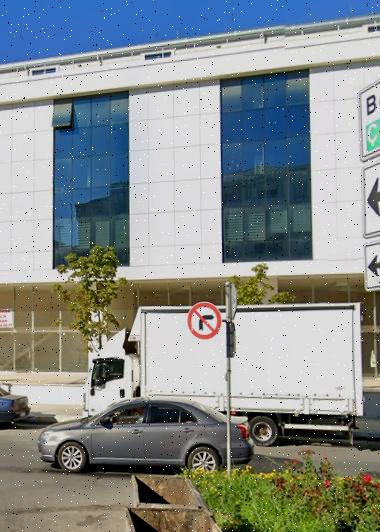rightturnsareforbidden: (181, 299, 226, 341)
